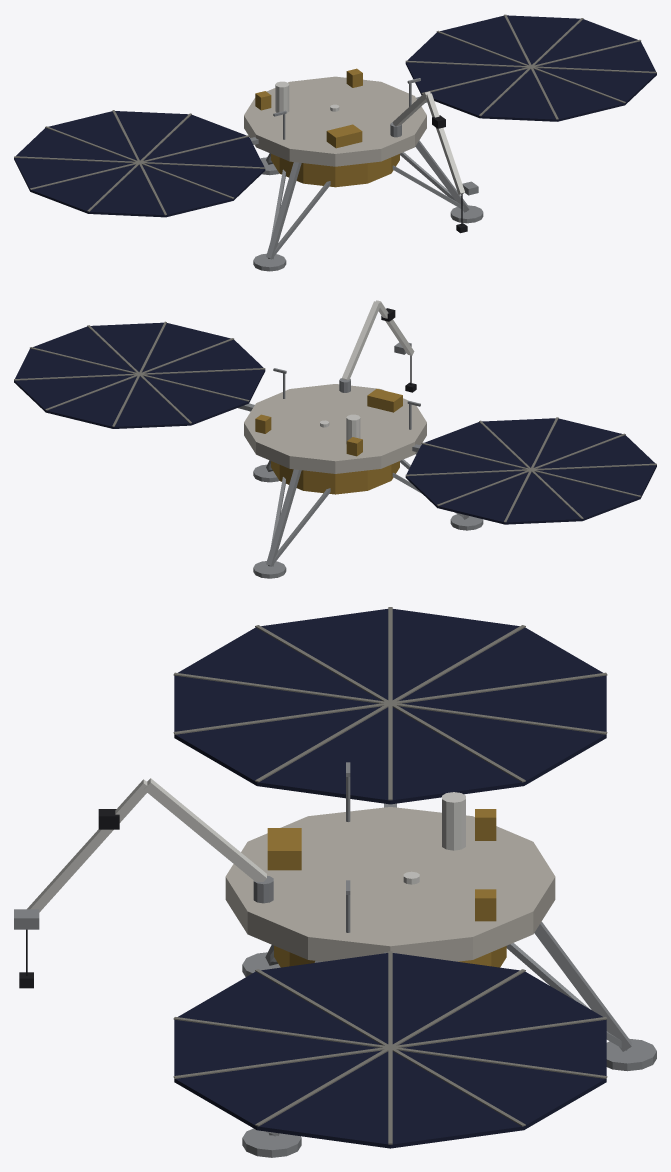
Rendered from lander.glb.
The picture shows the model from 3 angles, top to bottom: view 1: azimuth 30°, elevation 25°; view 2: azimuth 150°, elevation 25°; view 3: azimuth 270°, elevation 25°; orthographic projection. The views are drawn at different scales.
Visible parts, largest first — view 1: insight-lander; view 2: insight-lander; view 3: insight-lander.
Part boxes in pixels (x1,y1,x2,y2): insight-lander: (14,14,656,271); insight-lander: (14,300,656,578); insight-lander: (14,607,656,1157).
Bounding box in the file's own units: 6 × 1.57 × 3.04.
